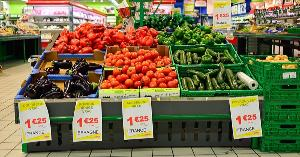bell_pepper: (57, 26, 158, 52), (158, 27, 228, 45)
eggplant: (23, 72, 100, 100), (37, 54, 103, 74)
tomato: (140, 70, 180, 94), (103, 70, 141, 90), (138, 48, 174, 68), (102, 48, 136, 66)
zucchini: (180, 66, 258, 90), (172, 46, 240, 64)
